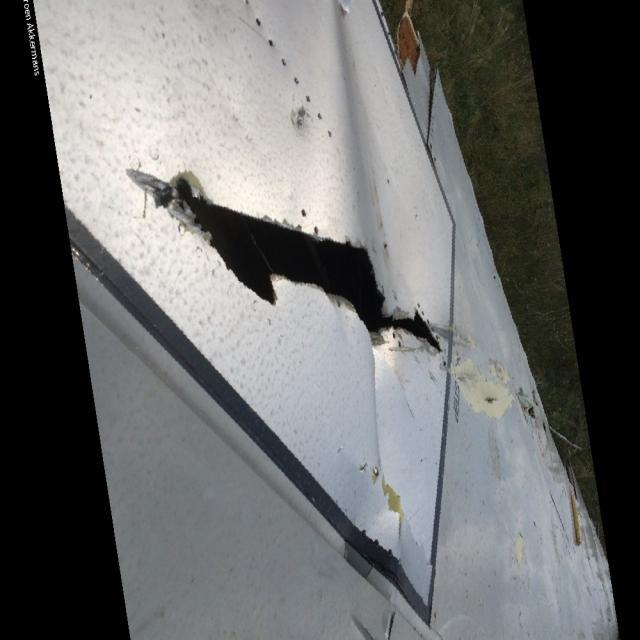crack: (126, 168, 443, 353), (482, 394, 499, 406)
